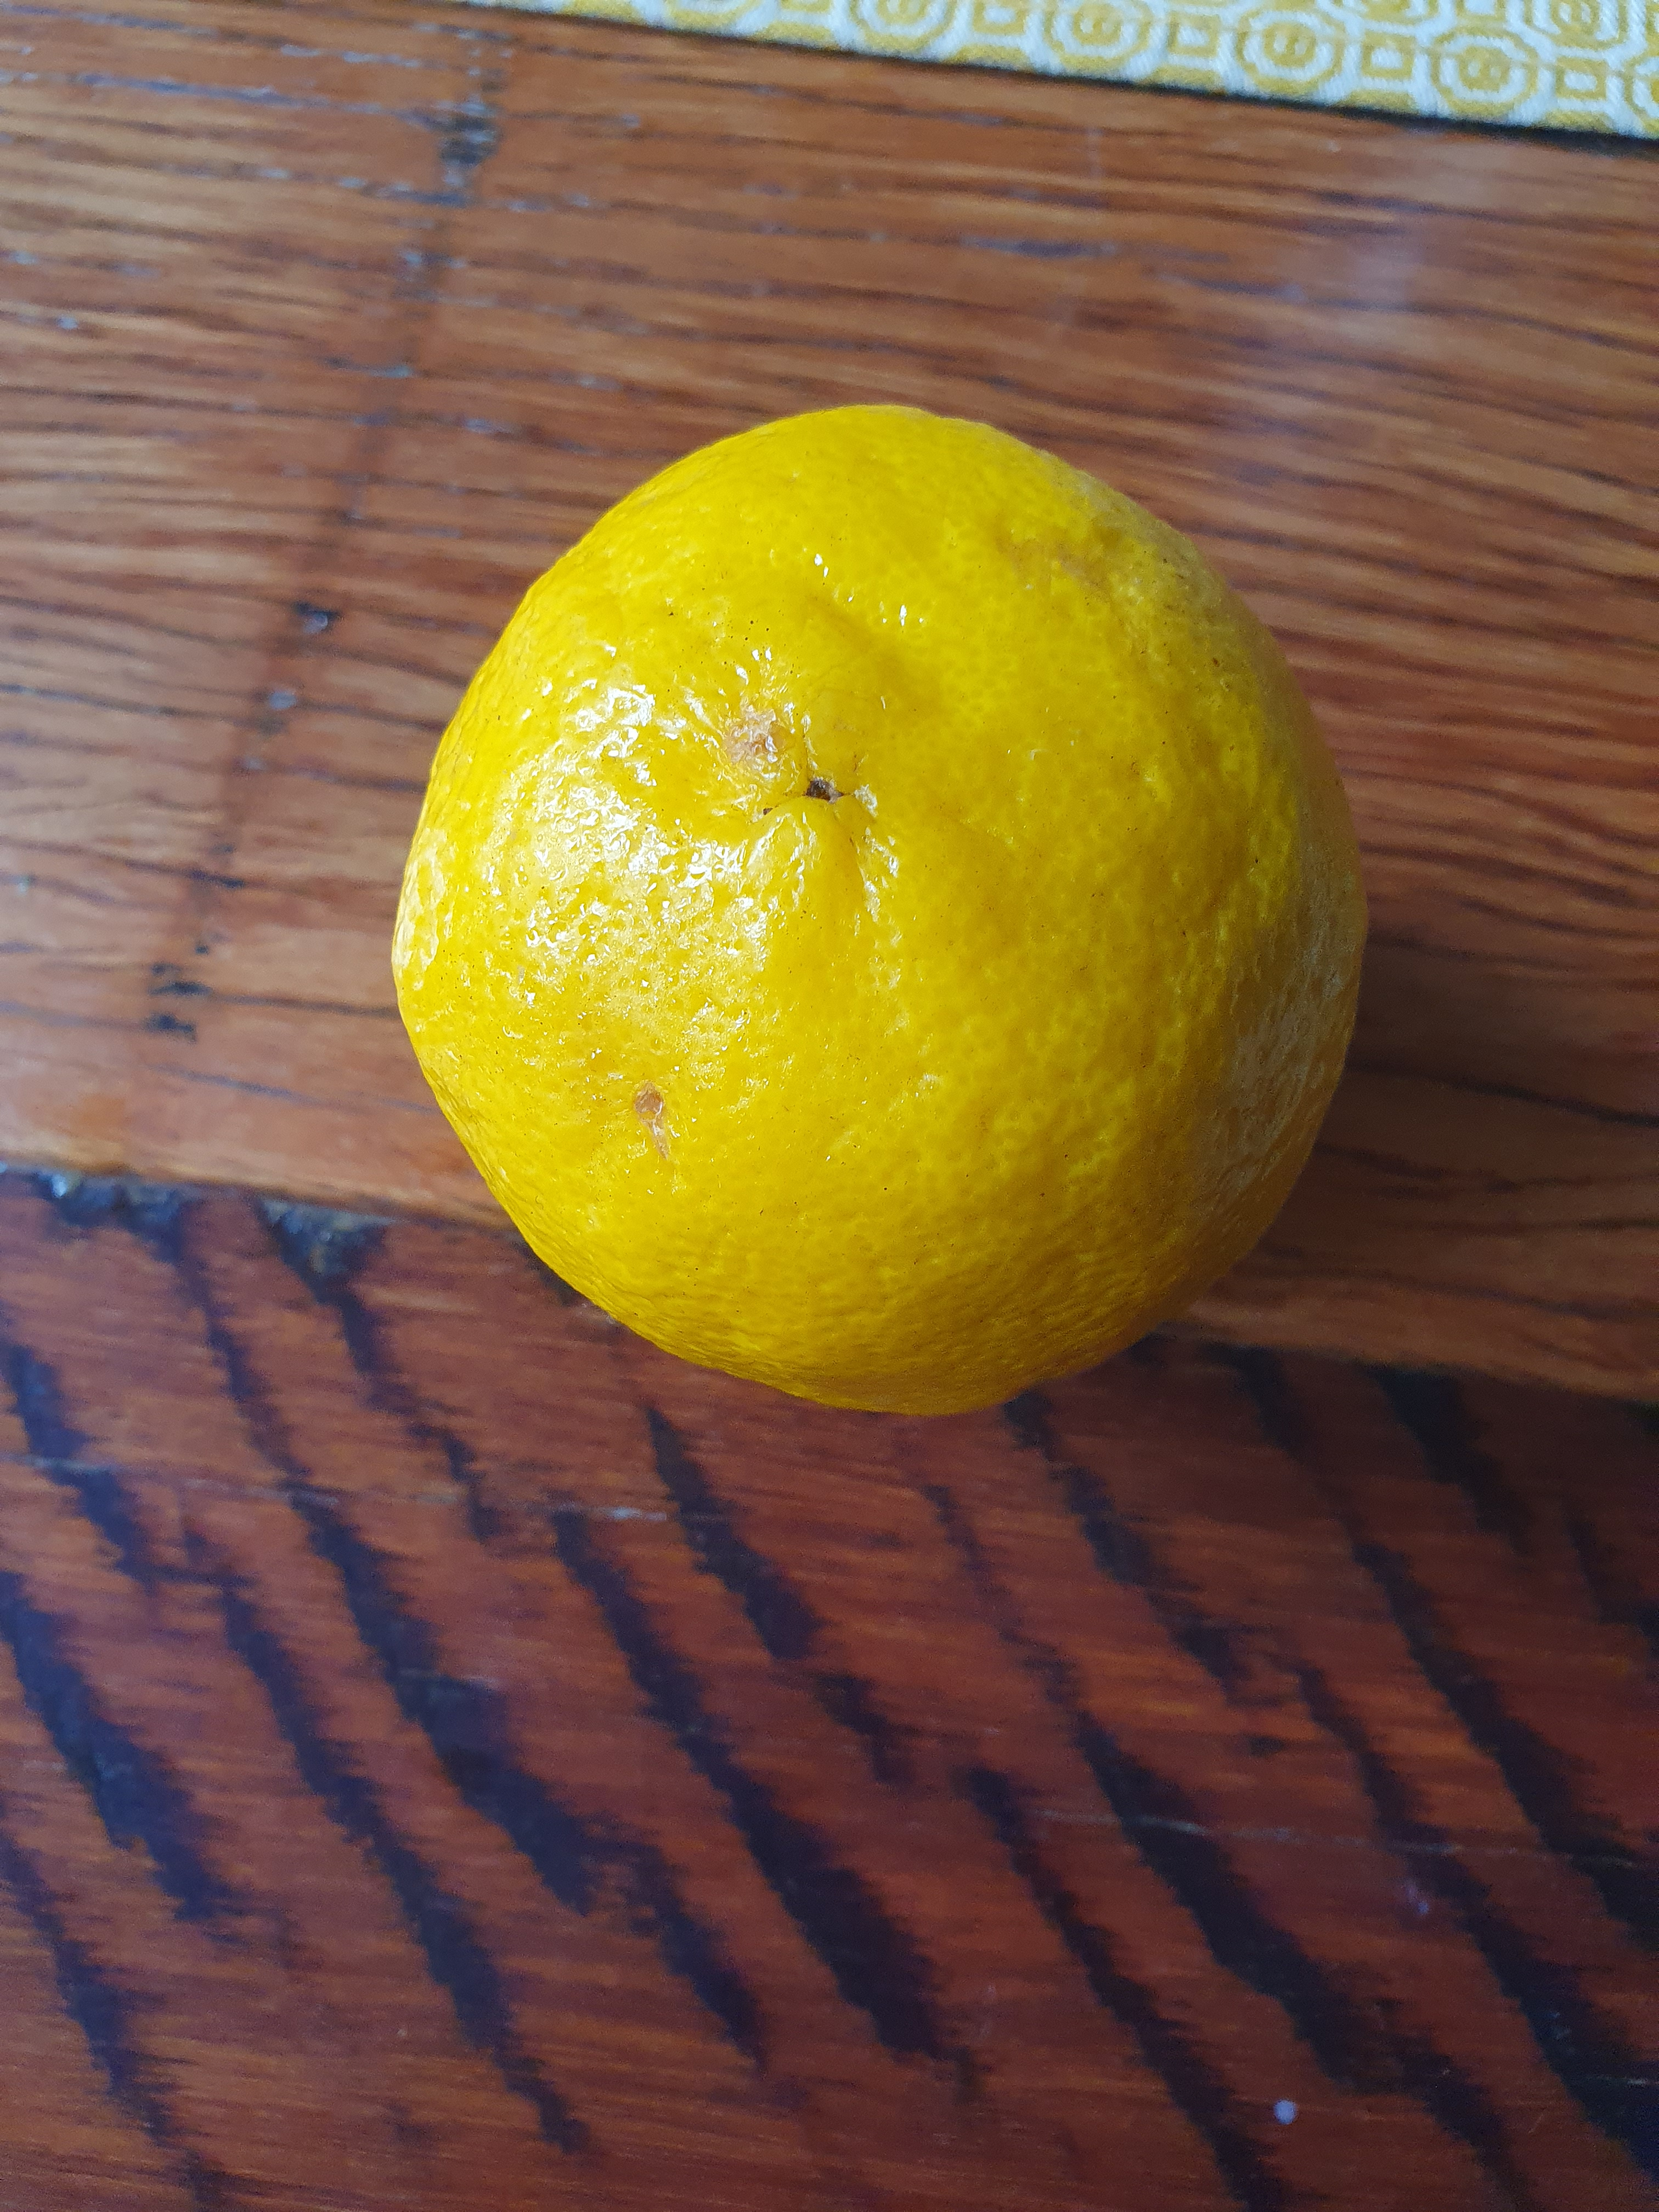lemon: (380, 385, 1359, 1428)
